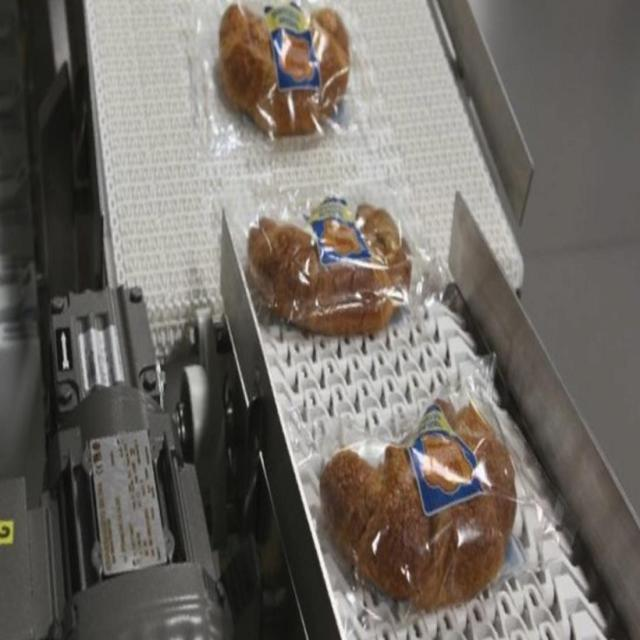food: (318, 395, 518, 611), (245, 191, 412, 336), (216, 0, 352, 141)
